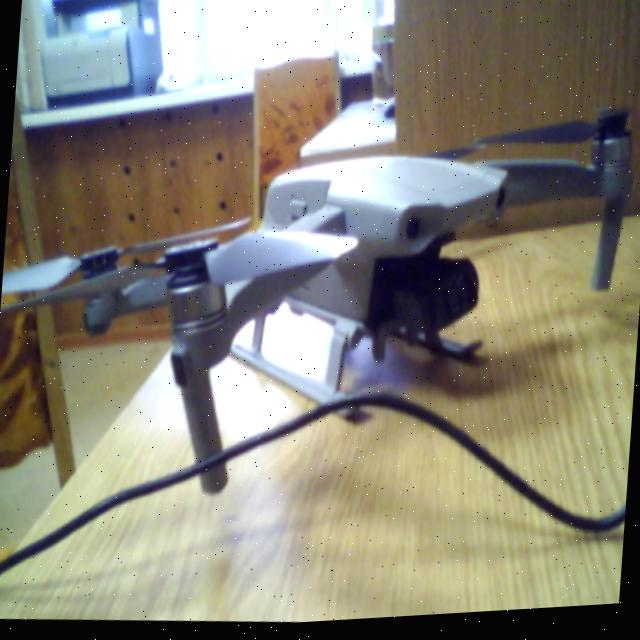drone: (0, 58, 640, 531)
